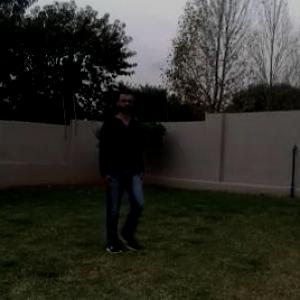follow: (104, 92, 141, 238)
